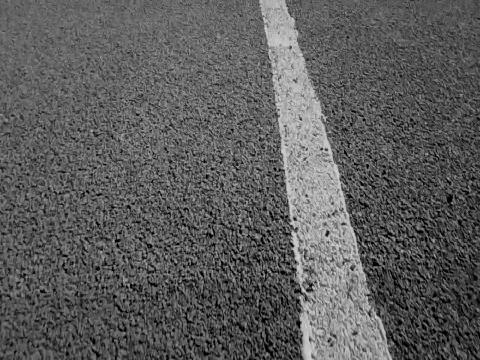Lines: (256, 0, 395, 360)
